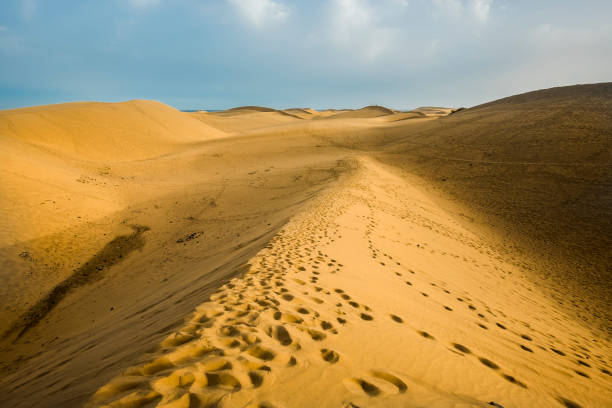human_foot_print: (92, 164, 609, 406), (132, 267, 337, 404), (132, 294, 303, 402), (343, 370, 407, 397), (369, 370, 406, 392), (267, 325, 292, 345), (321, 348, 339, 363)
